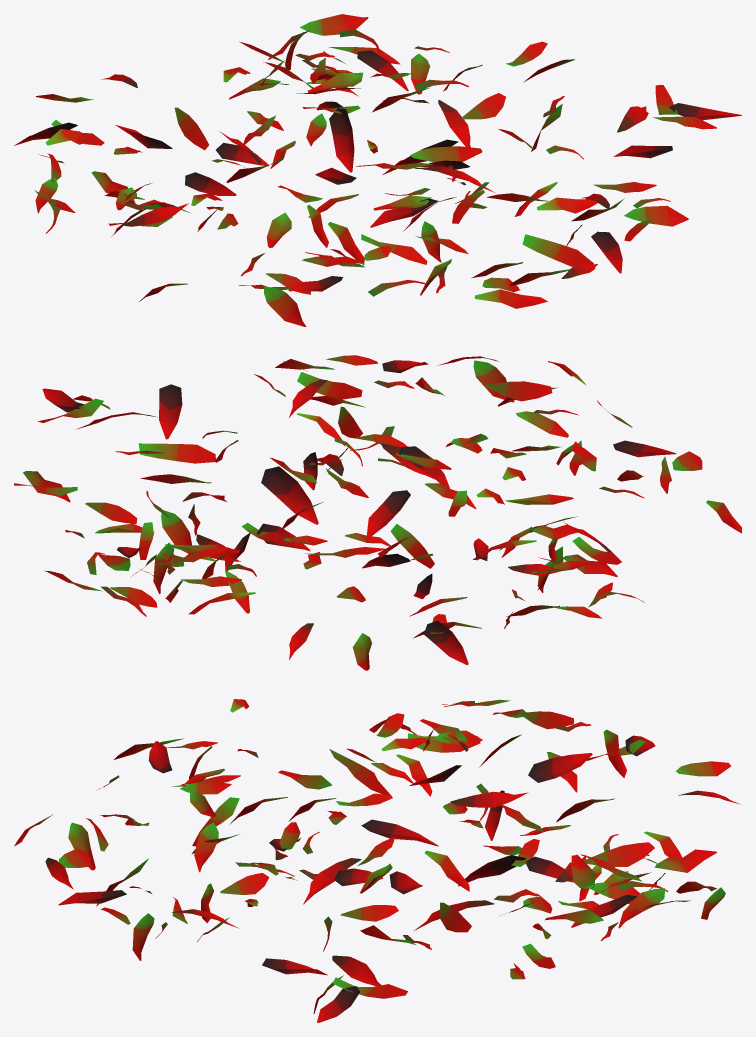
The model's file is Var3_LOD1.fbx.
3 renders of one model, top to bottom at view 1: azimuth 30°, elevation 25°; view 2: azimuth 150°, elevation 25°; view 3: azimuth 270°, elevation 25°, orthographic. The views are drawn at different scales.
Parts seen in each view (by area): view 1: _5587_Var3_LOD1; view 2: _5587_Var3_LOD1; view 3: _5587_Var3_LOD1.
Part boxes in pixels (x1,y1,x2,y2): _5587_Var3_LOD1: [14, 14, 741, 326]; _5587_Var3_LOD1: [14, 355, 741, 670]; _5587_Var3_LOD1: [14, 699, 740, 1022].
Size of the model in its own units: 115 by 8.35 by 109.
